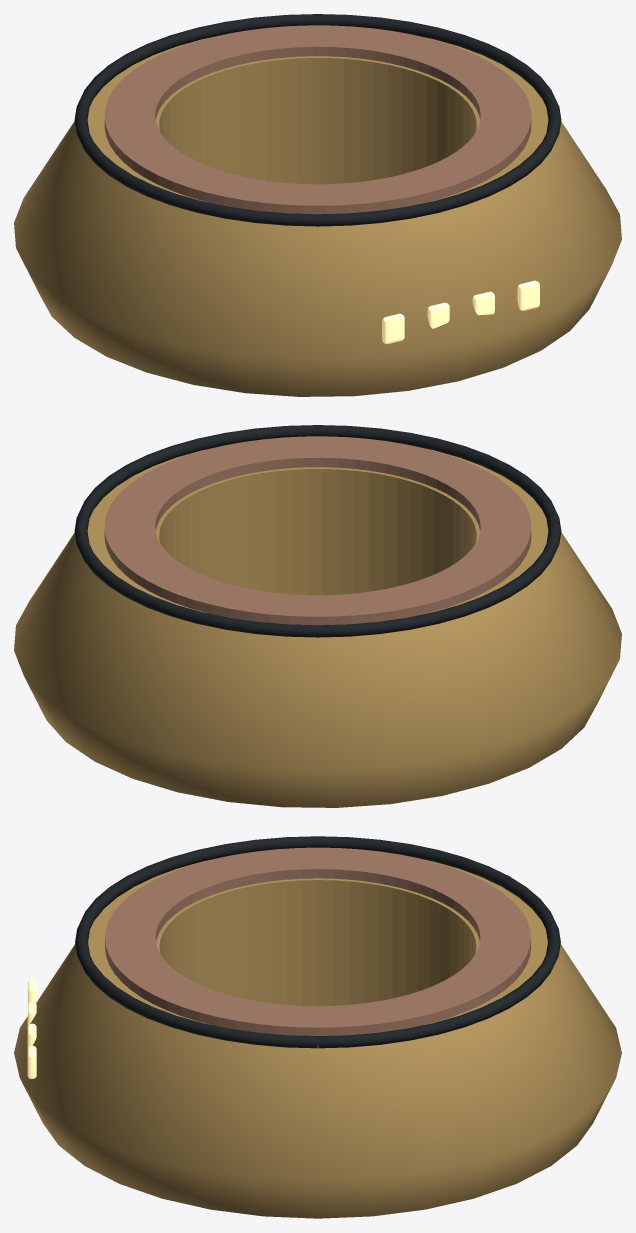
The picture shows the model from 3 angles, top to bottom: view 1: azimuth 30°, elevation 25°; view 2: azimuth 150°, elevation 25°; view 3: azimuth 270°, elevation 25°; orthographic projection.
Parts seen in each view (by area): view 1: Silo flared bunker, Permanently exposed silo throat, Silo lid seam, Inset service window, Inset service window.003; view 2: Silo flared bunker, Permanently exposed silo throat, Silo lid seam; view 3: Silo flared bunker, Permanently exposed silo throat, Silo lid seam.
Boxes of the visible parts, x1,y1,x2,y2 form: Silo flared bunker: [14, 37, 621, 396]; Permanently exposed silo throat: [104, 25, 531, 214]; Silo lid seam: [74, 14, 561, 226]; Inset service window: [382, 313, 404, 343]; Inset service window.003: [517, 280, 539, 310]; Silo flared bunker: [14, 448, 621, 807]; Permanently exposed silo throat: [104, 436, 531, 625]; Silo lid seam: [74, 425, 561, 637]; Silo flared bunker: [14, 860, 621, 1218]; Permanently exposed silo throat: [105, 847, 530, 1035]; Silo lid seam: [75, 836, 560, 1048].
Size of the model in its own units: 2.34 by 0.695 by 2.34.
